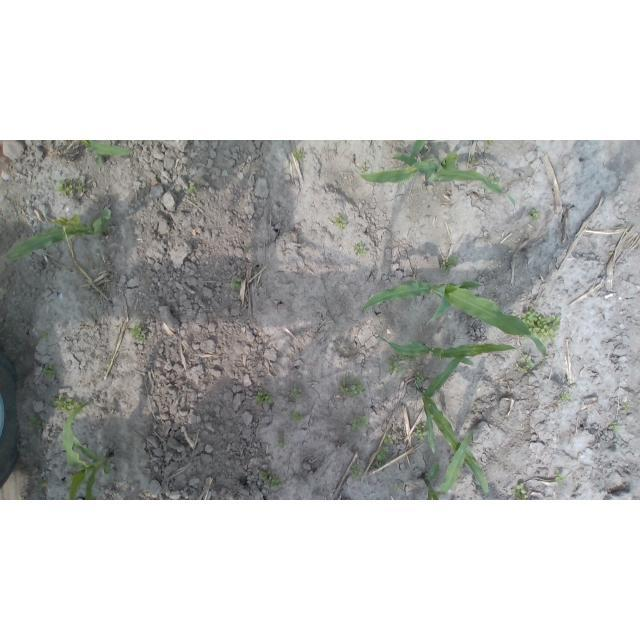Maize: (362, 281, 550, 365), (358, 141, 517, 214), (420, 355, 493, 494), (1, 207, 111, 263), (61, 400, 116, 500), (375, 333, 519, 366), (426, 429, 477, 500), (80, 141, 138, 168)
Weeds: (523, 309, 562, 340), (374, 435, 395, 467), (56, 178, 85, 198), (388, 354, 417, 374), (53, 397, 78, 414), (341, 378, 362, 396), (517, 355, 537, 372), (512, 482, 531, 498), (441, 256, 455, 275), (261, 476, 281, 489), (351, 415, 369, 429), (256, 392, 273, 405), (334, 218, 348, 231), (134, 324, 145, 340), (356, 243, 369, 256), (289, 388, 302, 400), (230, 278, 242, 290), (415, 430, 426, 443), (560, 392, 571, 404), (30, 417, 43, 427), (353, 465, 361, 480), (45, 368, 56, 378), (188, 184, 197, 195), (611, 424, 622, 433), (532, 210, 539, 222), (40, 481, 49, 490), (296, 152, 306, 159), (471, 156, 478, 164), (292, 413, 299, 420), (557, 476, 564, 483), (245, 248, 250, 252)
